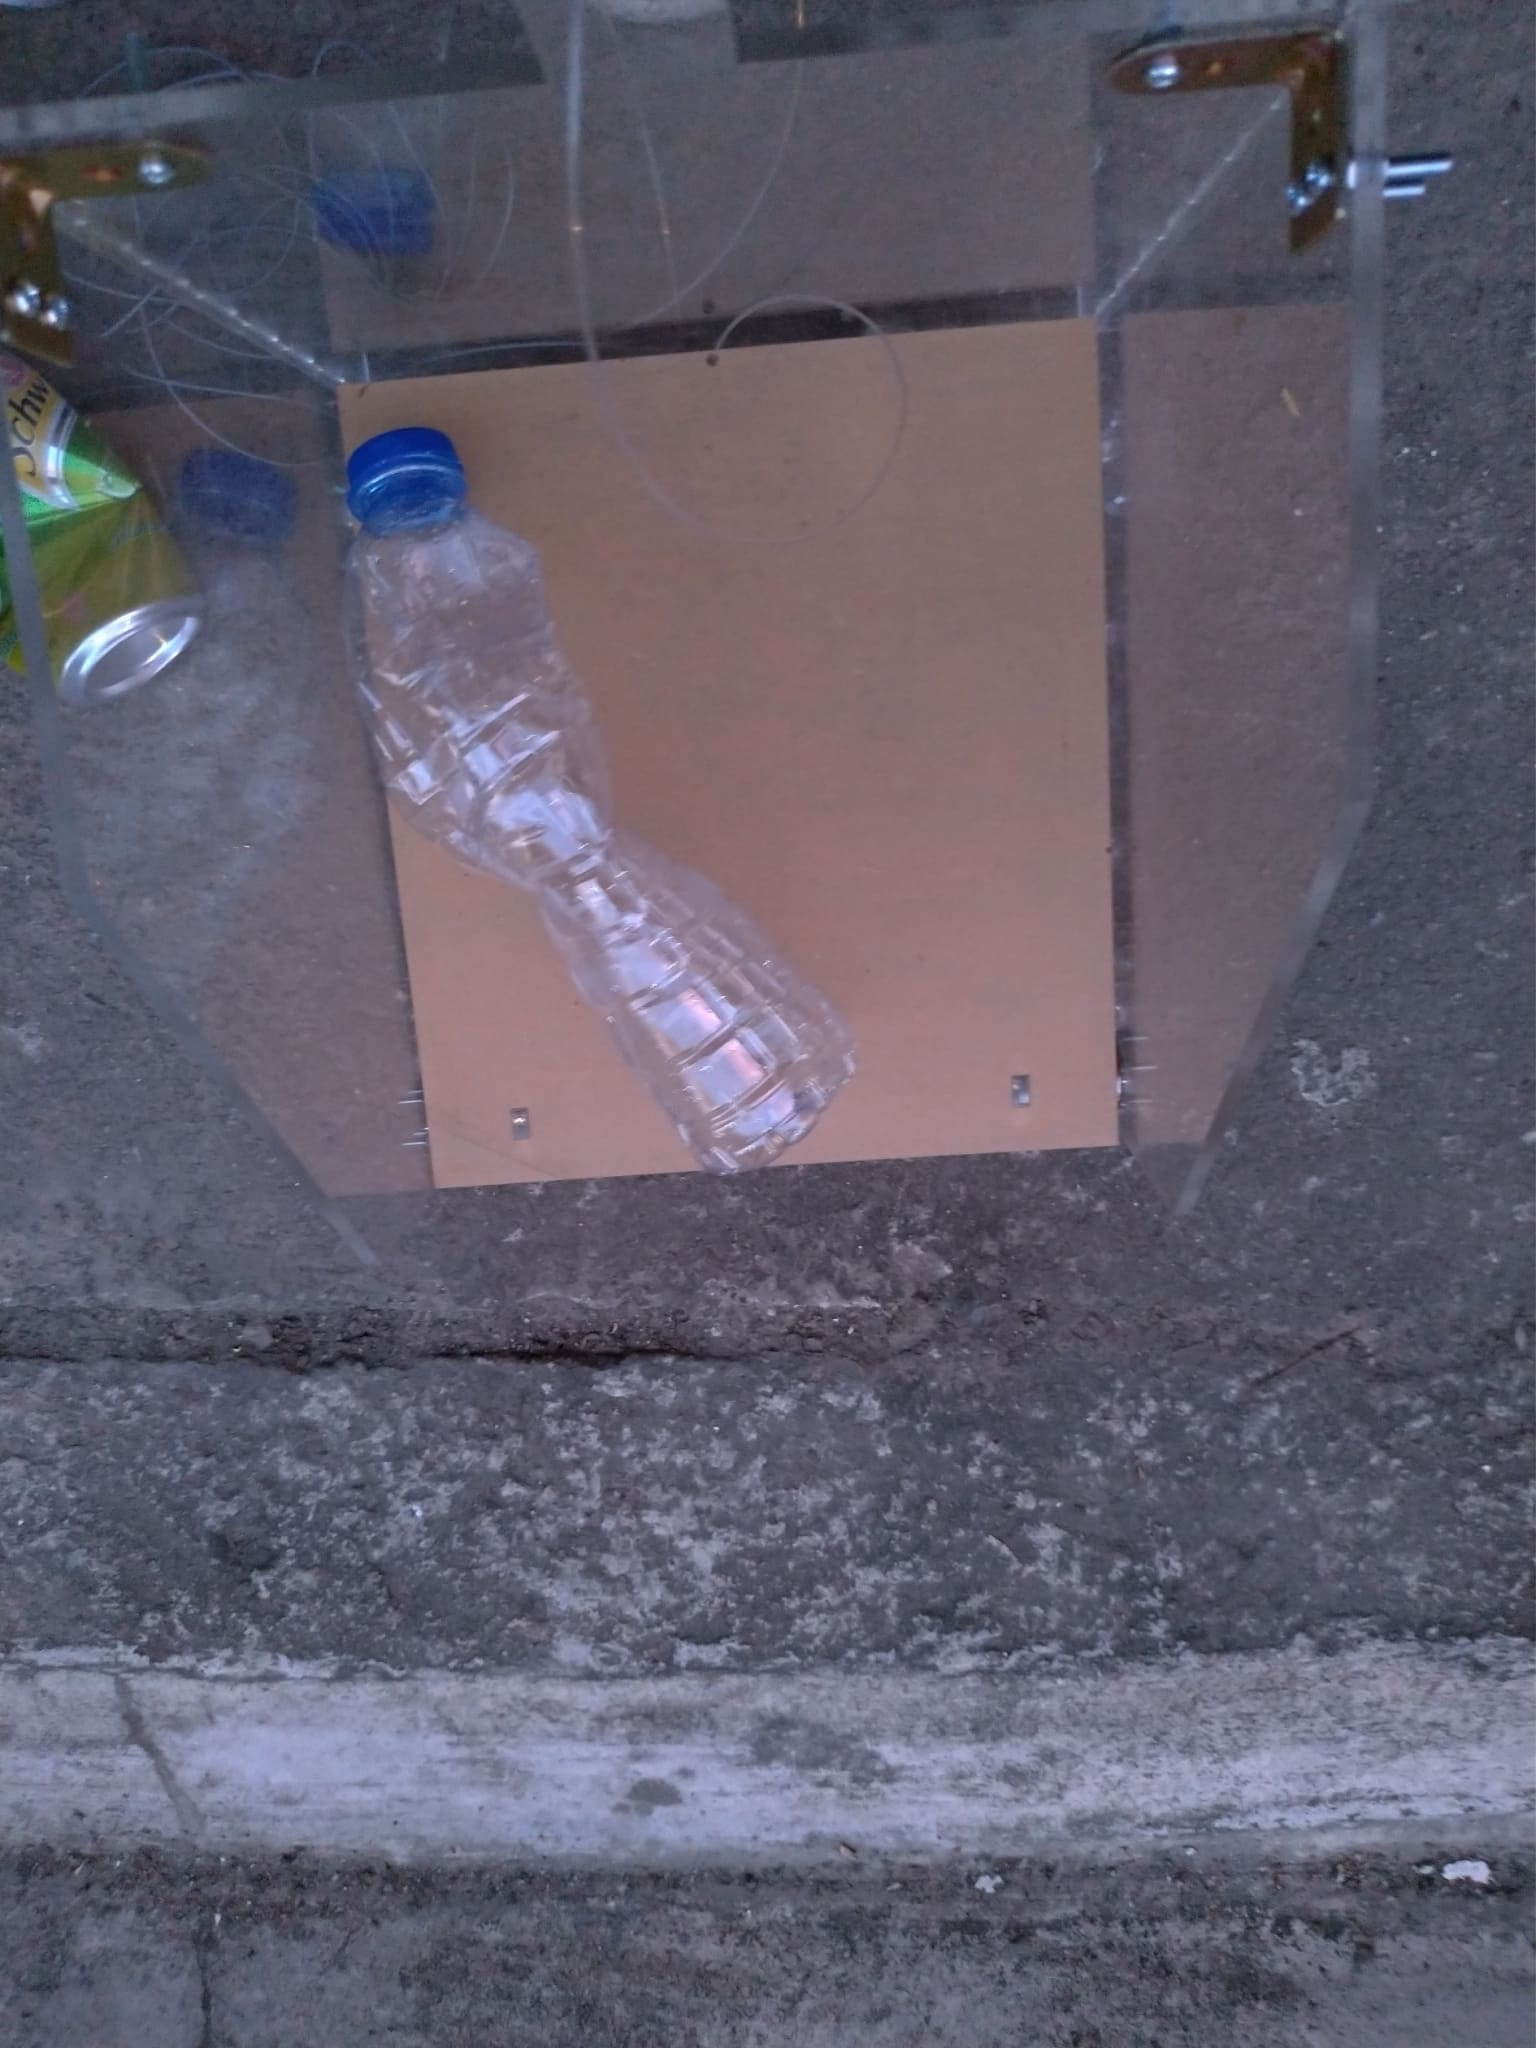AlCan: (2, 348, 208, 716)
PlasticBottle: (340, 429, 854, 1174)
